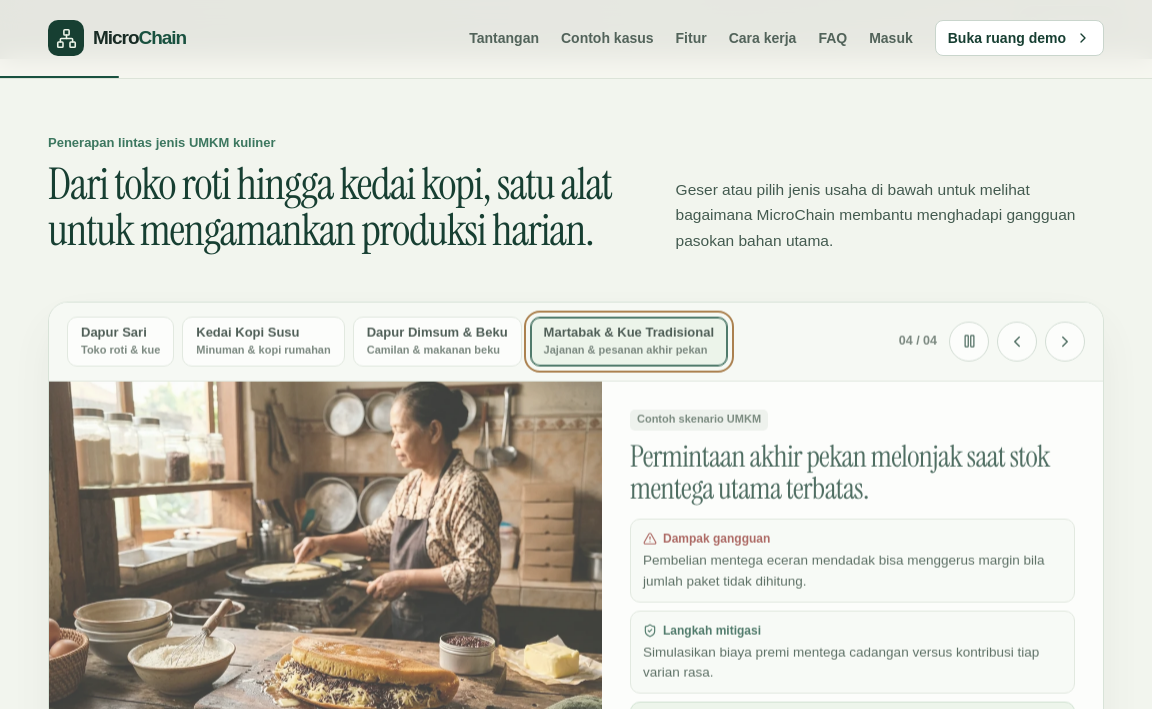
HomePage (landing) › renders the animated hero video background with pause toggle and interactive 4-slide UMKM carousel
This screenshot has width=1152, height=709.
Earlier steps of the test are not shown.
(page scrolled)
Expected: the text "04 / 04" is shown, [899, 332, 937, 351]
Click the button named "Slide sebelumnya" at [1017, 341], box [997, 321, 1037, 361]
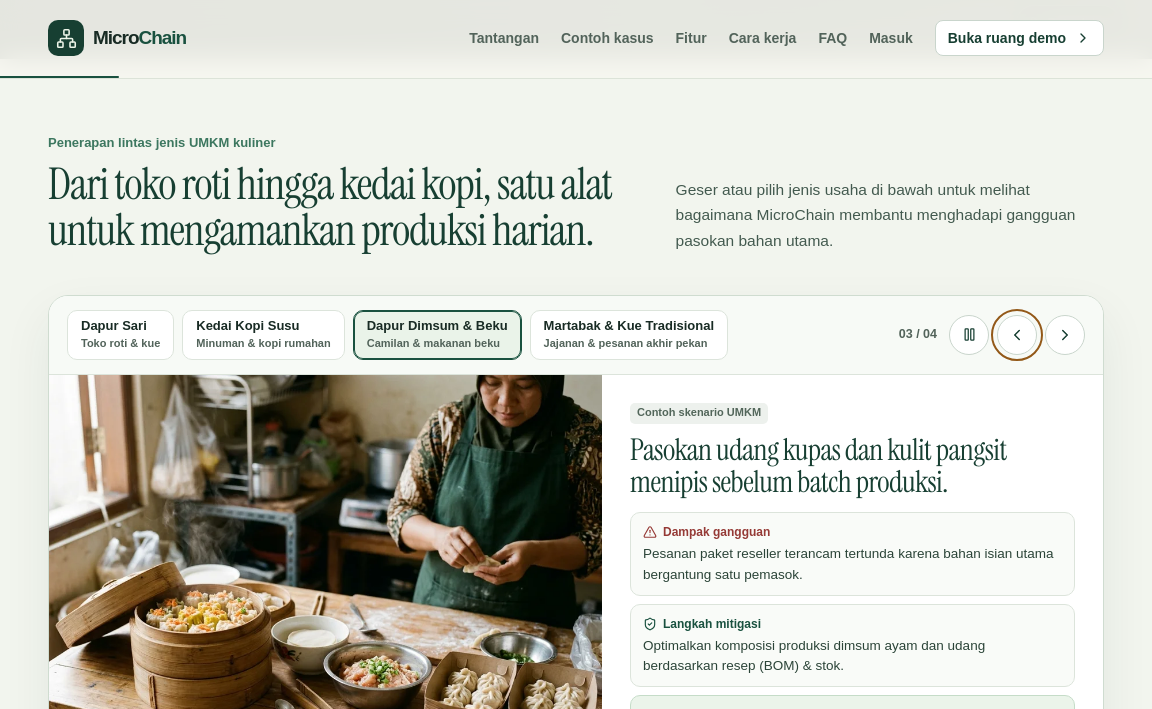
Expected: the text "03 / 04" is shown, [899, 325, 937, 344]
